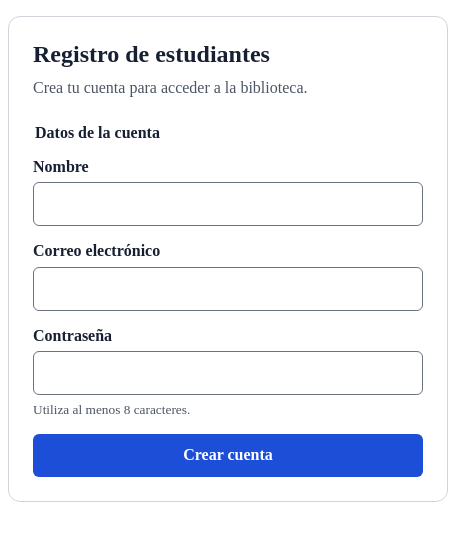
Test: Registro de estudiantes › muestra el error de registro y permite corregirlo
This screenshot has width=465, height=559.
Step 1. Type "  Ana  " into the field labelled "Nombre" → {"x": 228, "y": 204}, box top-left (33, 182), bottom-right (423, 226)
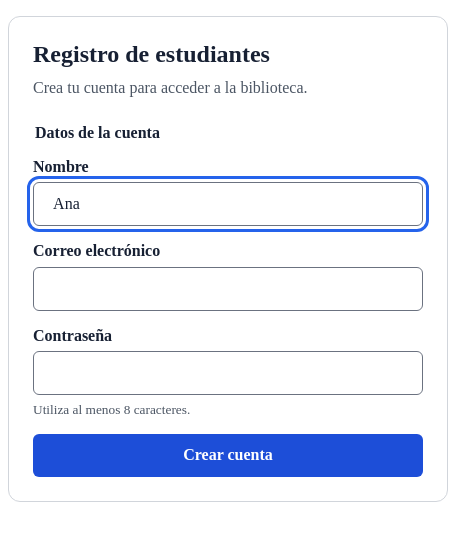
Step 2. Type "ana@example.com" into the field labelled "Correo electrónico" → {"x": 228, "y": 289}, box top-left (33, 267), bottom-right (423, 311)
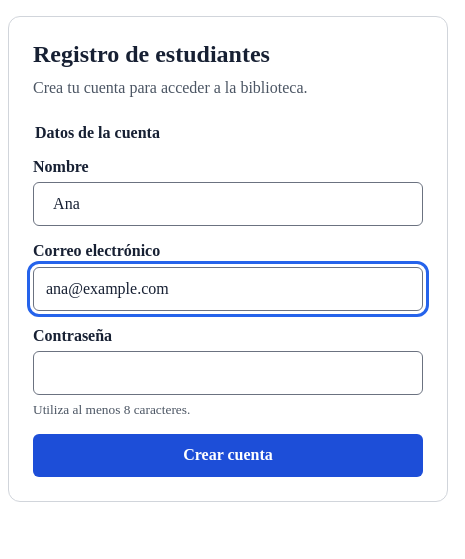
Step 3. Type "clave1234" into the password field labelled "Contraseña" → {"x": 228, "y": 373}, box top-left (33, 351), bottom-right (423, 395)
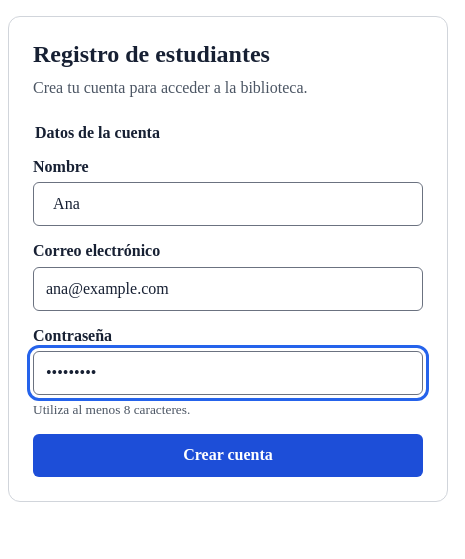
Step 4. Click the button "Crear cuenta" → {"x": 228, "y": 455}, box top-left (33, 434), bottom-right (423, 477)
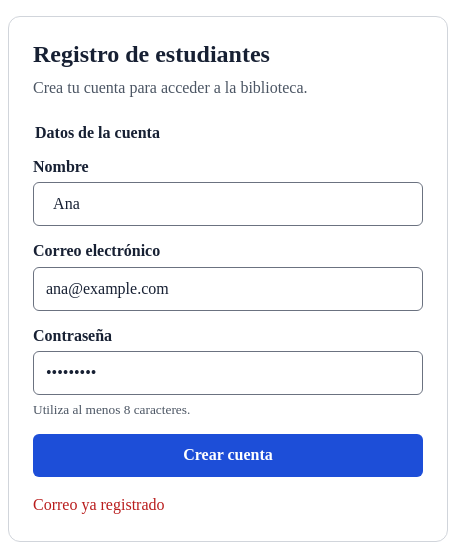
Check: the text "Correo ya registrado" is shown, box top-left (33, 496), bottom-right (164, 513)
Step 5. Type "x" into the field labelled "Nombre" → {"x": 228, "y": 204}, box top-left (33, 182), bottom-right (423, 226)
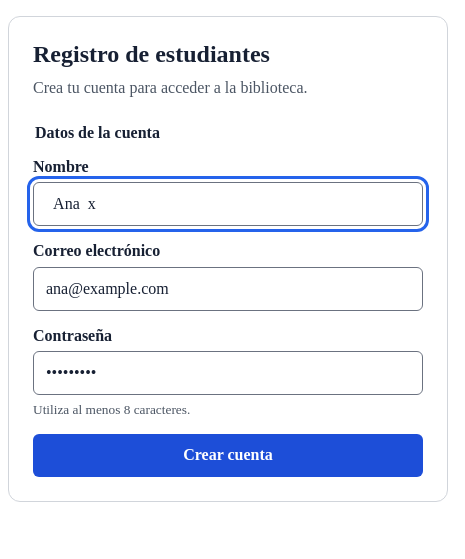
Check: the text "Correo ya registrado" is gone
